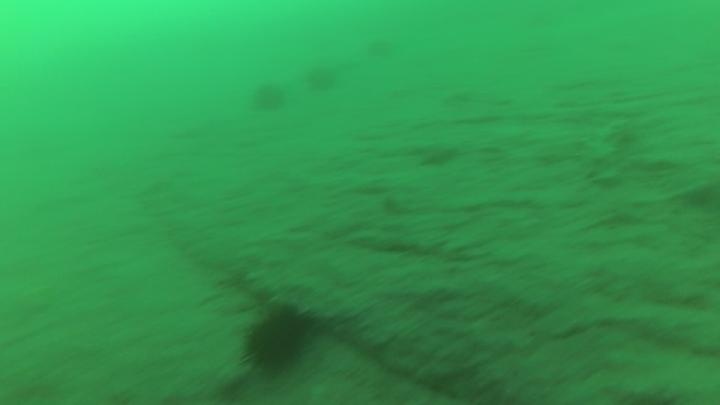echinus: (225, 297, 325, 383), (254, 81, 286, 116), (308, 65, 342, 93)
